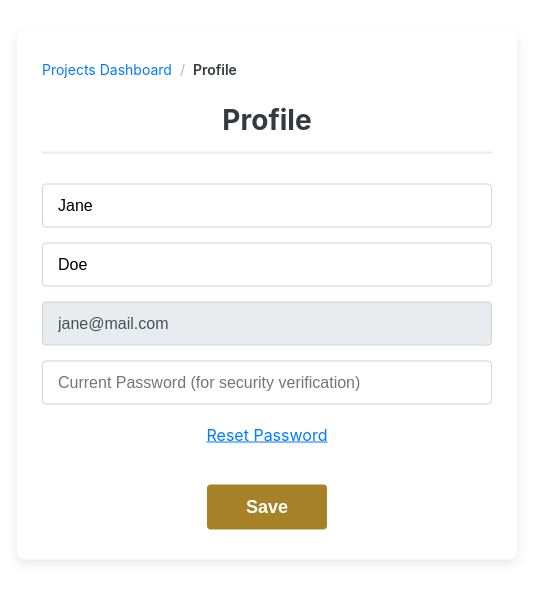
Test: shows API error if save fails
Type "wrongpass" into the password field with placeholder "Current Password (for security verification)" at [267, 382], box [42,360,492,404]
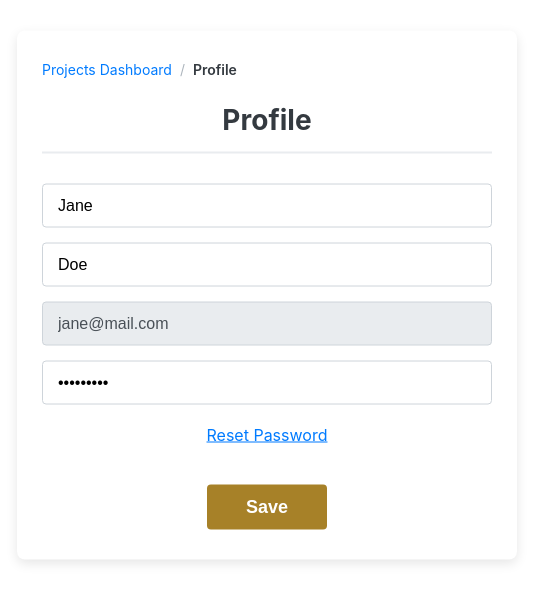
Click the button "Save" at [267, 507], box [207,484,327,530]
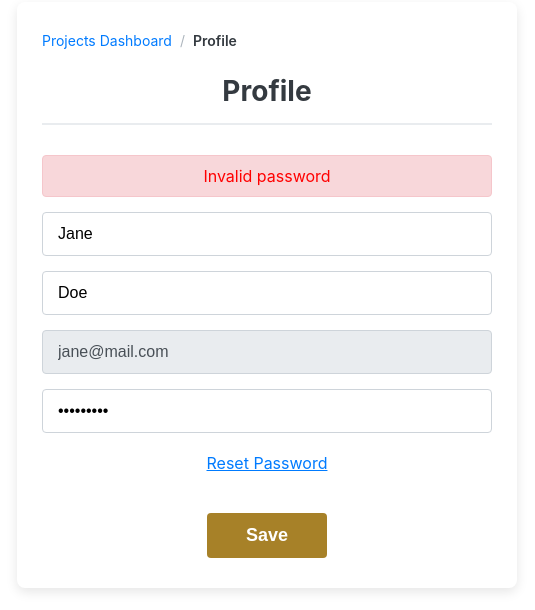
Now the text "Invalid password" is shown, box [42,155,492,197]
